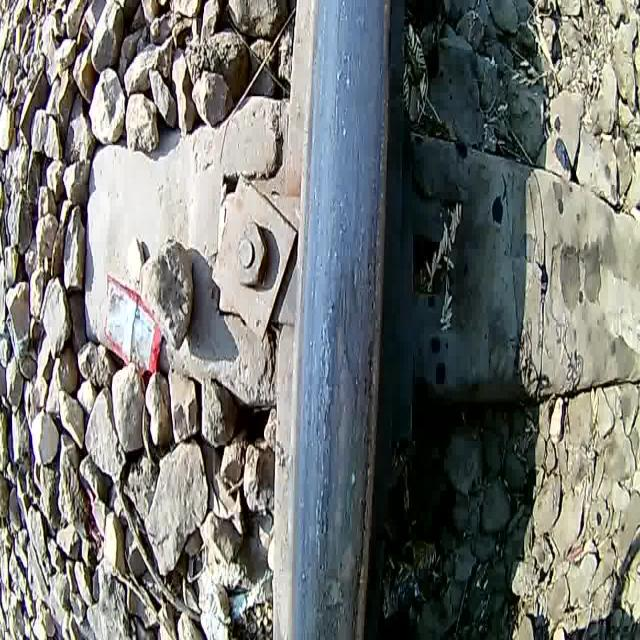Squats: (265, 0, 410, 640)
